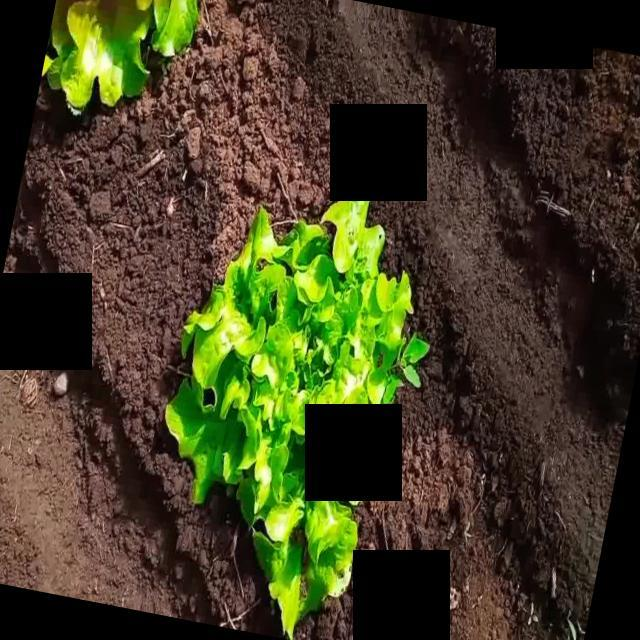Lettuce: (166, 194, 411, 625), (43, 0, 202, 119)
